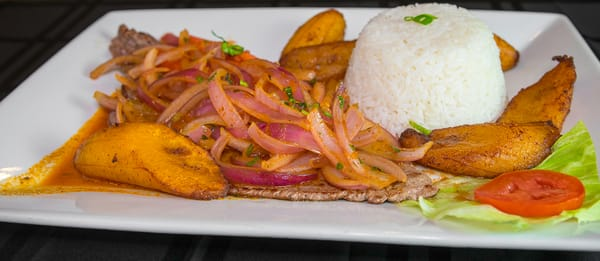soup: (319, 3, 582, 204), (320, 4, 522, 184)
